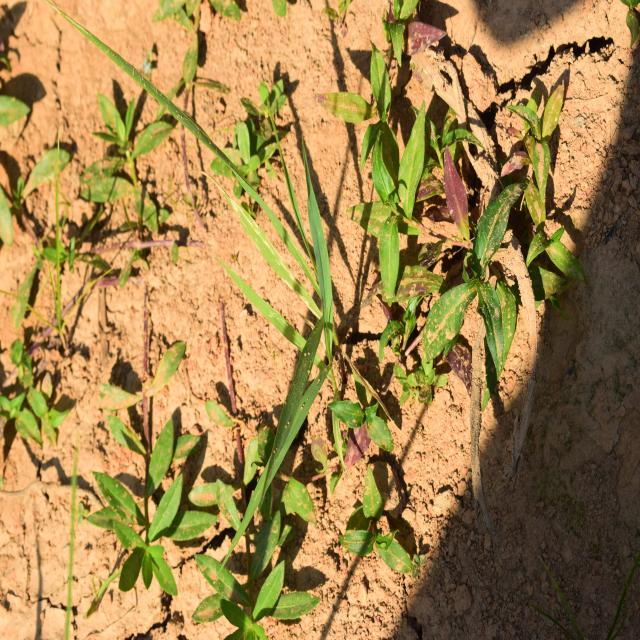green_foxtail: (196, 127, 377, 446)
